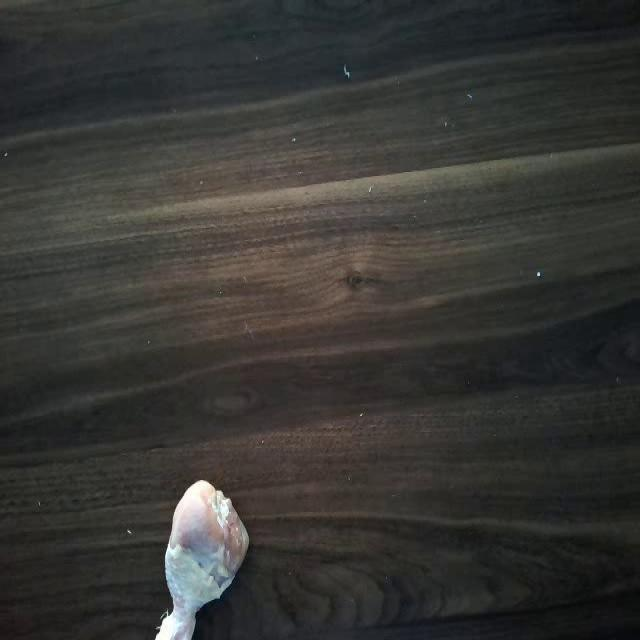leg: (151, 481, 256, 640)
